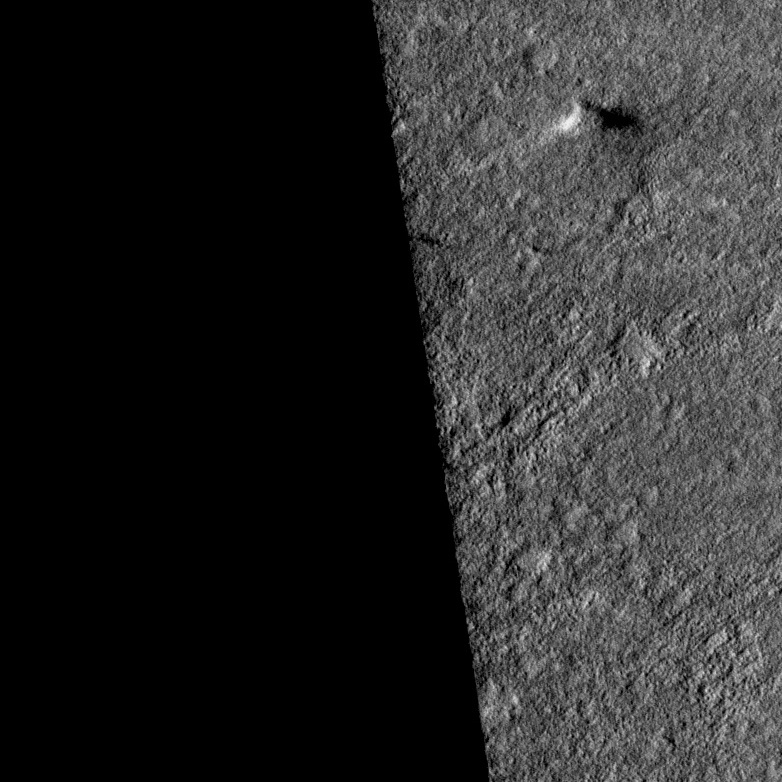dust_devil: (555, 97, 641, 136)
